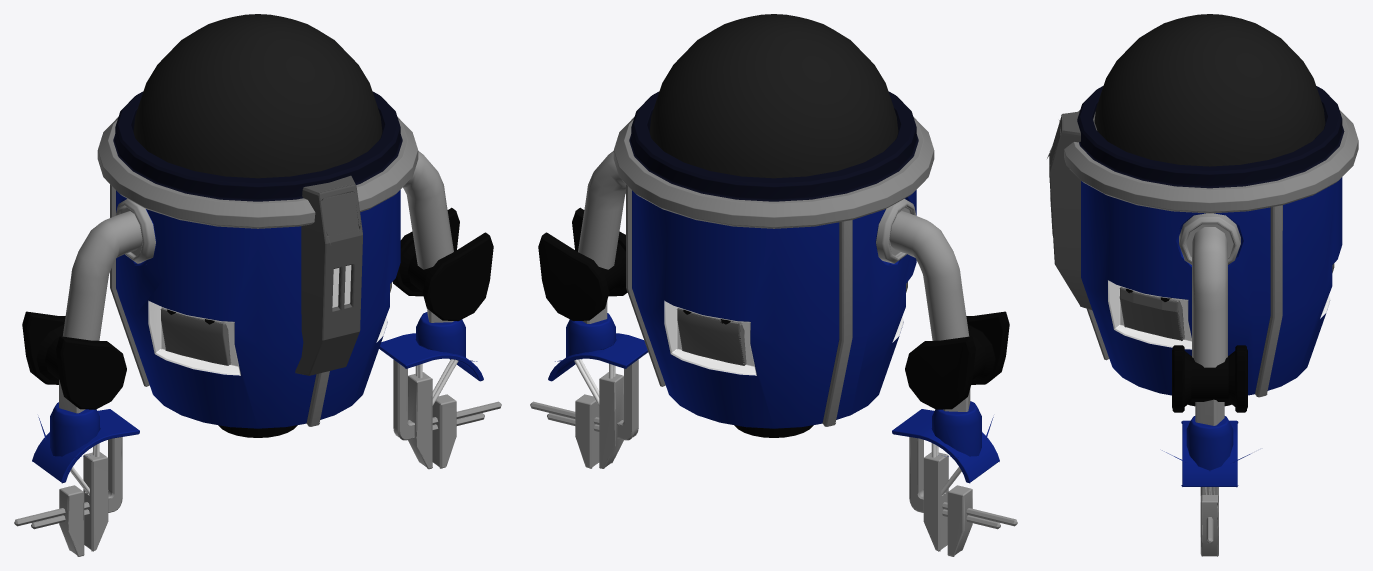
The model's file is robot7.fbx.
3 renders of one model, left to right at view 1: azimuth 30°, elevation 25°; view 2: azimuth 150°, elevation 25°; view 3: azimuth 270°, elevation 25°, orthographic. The views are drawn at different scales.
Parts seen in each view (by area): view 1: robot2; view 2: robot2; view 3: robot2.
Part boxes in pixels (x1=…): robot2: x1=14, y1=14, x2=501, y2=556; robot2: x1=530, y1=14, x2=1017, y2=556; robot2: x1=1047, y1=14, x2=1358, y2=556.
Size of the model in its own units: 394 by 374 by 236.
